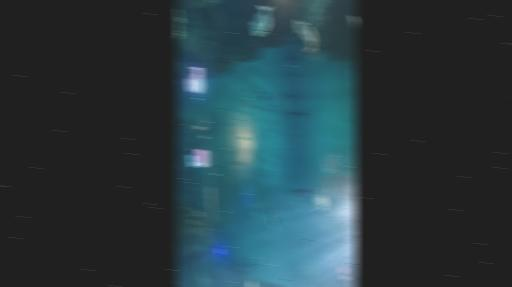Fish: (294, 20, 315, 57), (251, 5, 270, 36), (335, 175, 346, 200), (320, 177, 331, 196), (325, 153, 334, 173), (314, 194, 325, 210), (278, 201, 285, 217), (282, 93, 288, 108), (252, 209, 261, 217), (262, 92, 267, 104), (270, 209, 274, 224), (272, 220, 277, 232), (351, 17, 356, 28), (294, 189, 311, 192), (263, 105, 270, 112), (246, 103, 254, 108), (253, 201, 258, 208), (305, 280, 310, 286), (251, 85, 258, 89), (256, 88, 261, 93), (291, 201, 296, 206), (270, 119, 274, 125), (291, 112, 303, 114), (244, 98, 248, 103), (303, 194, 304, 212), (245, 88, 249, 92), (244, 111, 248, 115), (255, 106, 258, 109), (177, 281, 179, 284), (260, 200, 261, 204)
